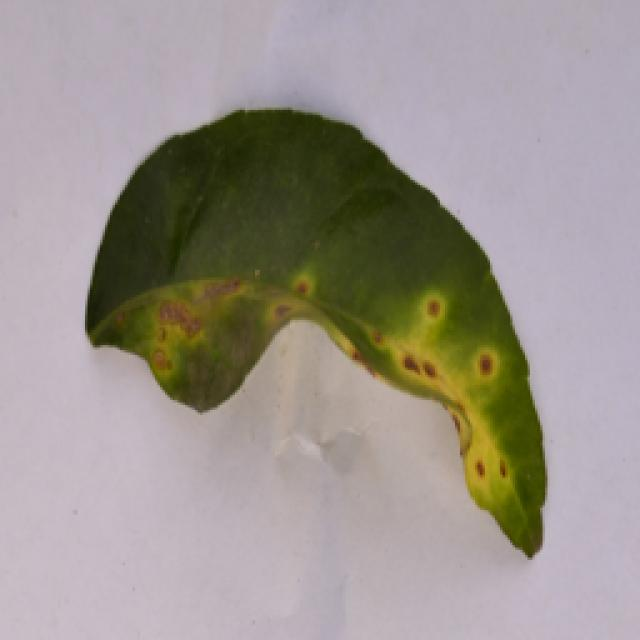canker: (90, 104, 552, 568)
